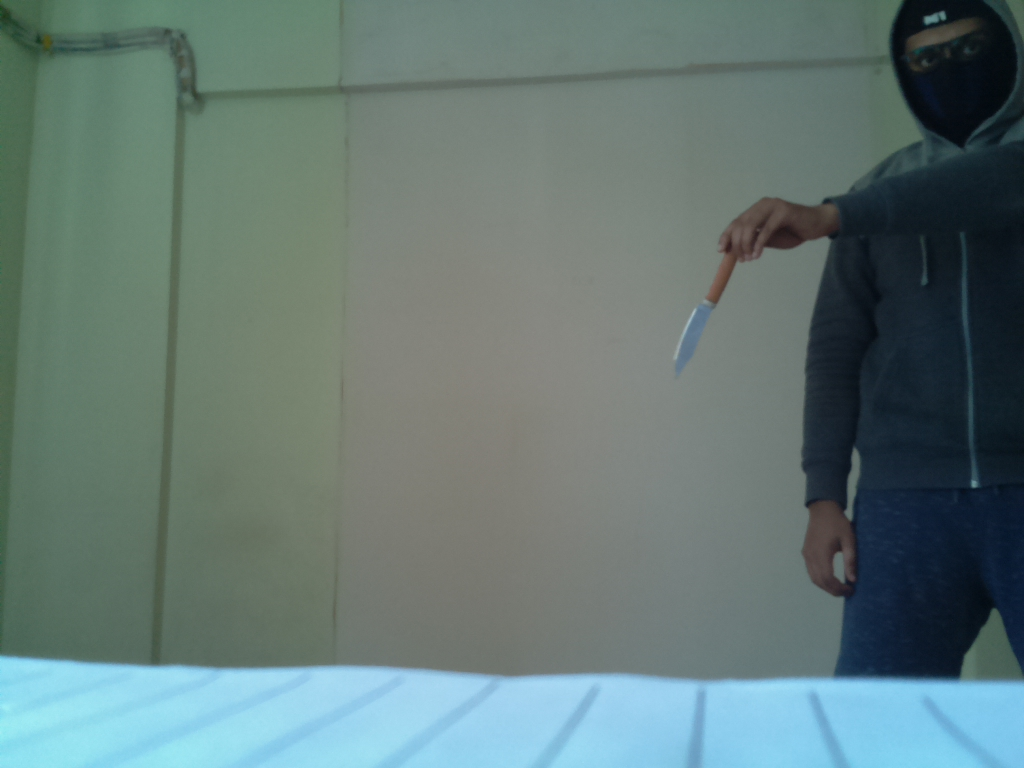knife: (664, 240, 750, 394)
